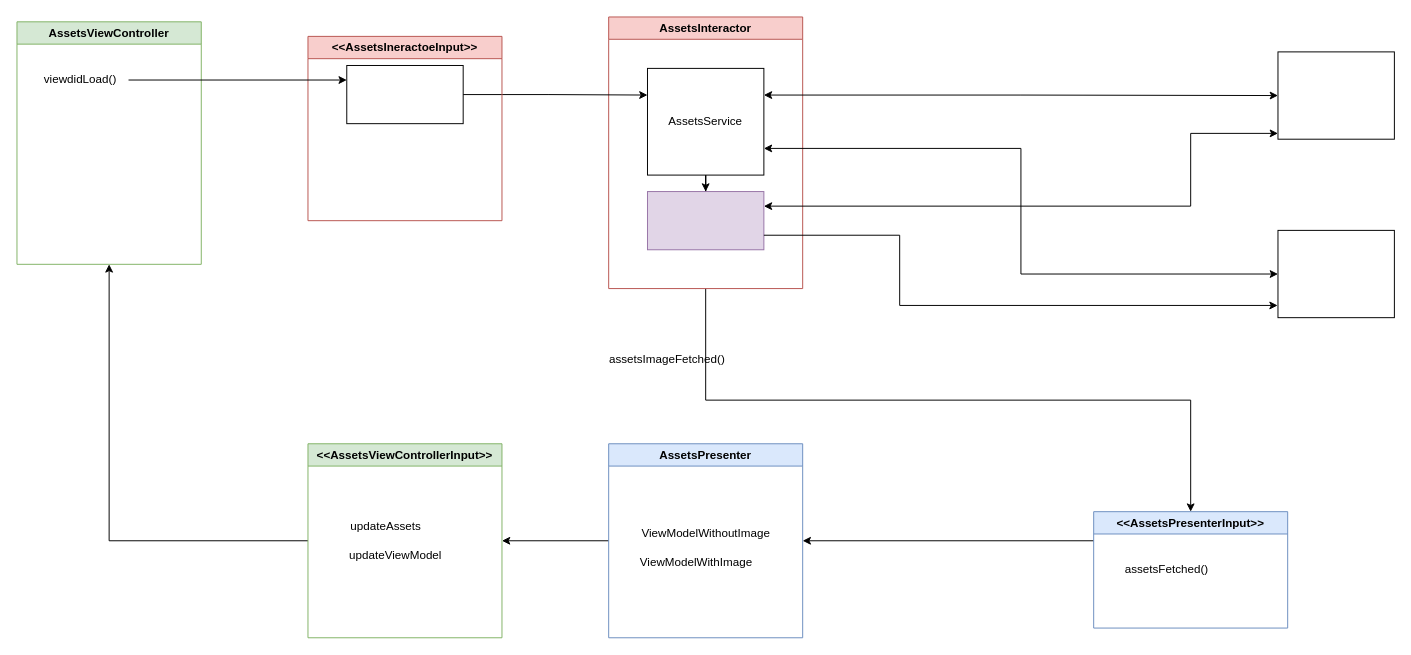
Some shapes in this 1411 by 655 pixel diagram are drawn without their labels. The shapes that lost their labels are listed below. From the top down, each one's centre as x and y in pixels, then its label:
[404,94]: fetchAssets()
[1335,95]: Network
[705,220]: ImageLoader
[1335,273]: Cache
